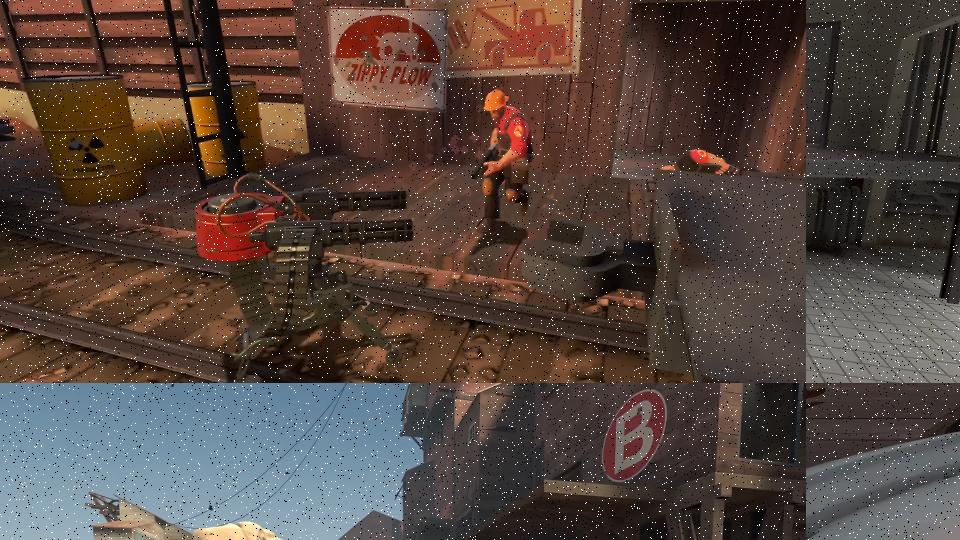Enemy: (469, 88, 536, 244), (659, 146, 749, 180)
